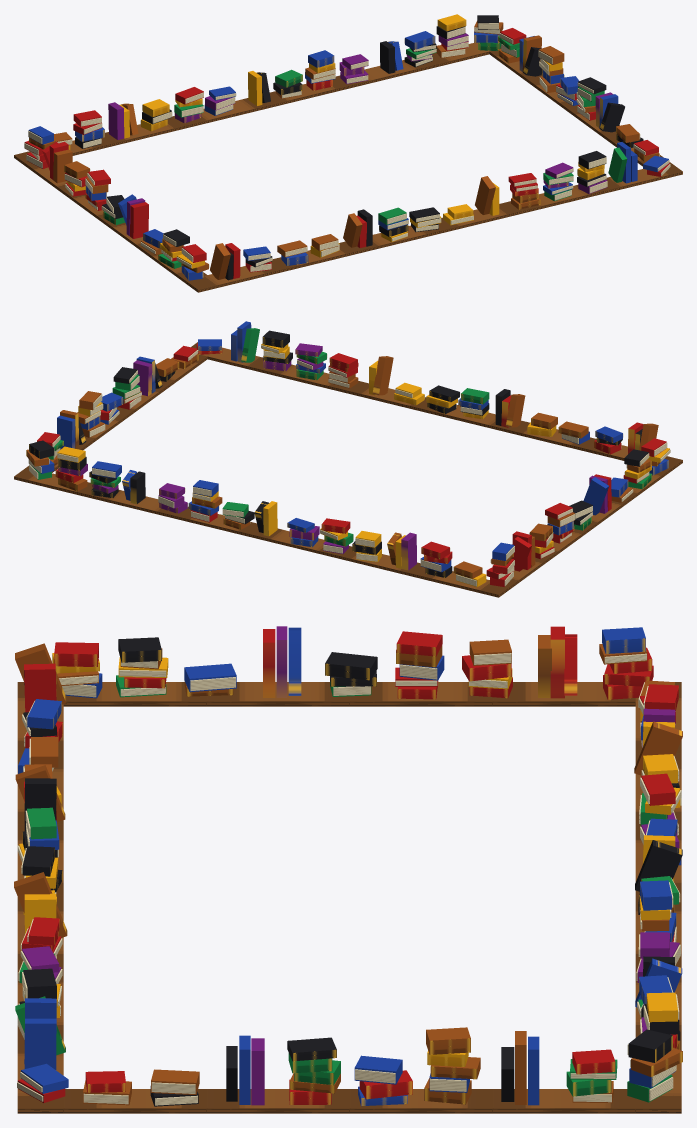
The model's file is Rim_Books.fbx.
The picture shows the model from 3 angles, top to bottom: view 1: azimuth 30°, elevation 25°; view 2: azimuth 150°, elevation 25°; view 3: azimuth 270°, elevation 25°; orthographic projection. The views are drawn at different scales.
Parts seen in each view (by area): view 1: Rim_Books; view 2: Rim_Books; view 3: Rim_Books.
Part boxes in pixels (x1,y1,x2,y2): Rim_Books: (14, 14, 682, 292); Rim_Books: (14, 321, 682, 597); Rim_Books: (14, 626, 682, 1113).
Size of the model in its own units: 3.52 by 0.2707 by 2.33.
1 material, 1 textured.
